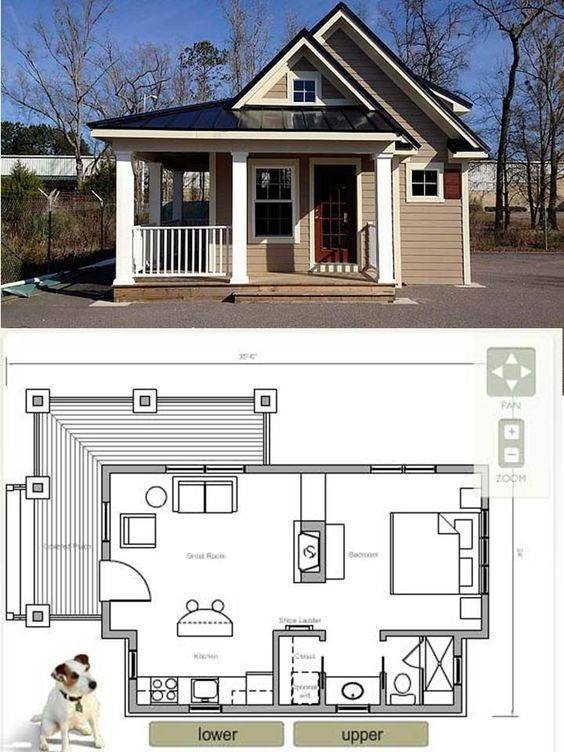door: (98, 559, 156, 612), (398, 641, 424, 676)
room: (102, 471, 487, 640), (272, 631, 462, 718), (137, 631, 276, 716)
wall: (240, 456, 374, 484), (369, 623, 497, 647), (259, 623, 290, 713), (368, 700, 467, 720), (92, 462, 170, 484), (220, 699, 335, 713), (120, 697, 190, 719), (267, 622, 335, 644), (472, 592, 496, 646), (435, 459, 490, 482), (95, 625, 145, 650), (91, 463, 120, 503), (122, 679, 148, 718), (95, 599, 116, 642), (87, 537, 120, 560), (451, 683, 465, 721)
window: (474, 507, 503, 597), (371, 456, 438, 485), (162, 460, 246, 475), (92, 497, 117, 541), (444, 654, 475, 687), (189, 699, 224, 719), (124, 652, 143, 680)
